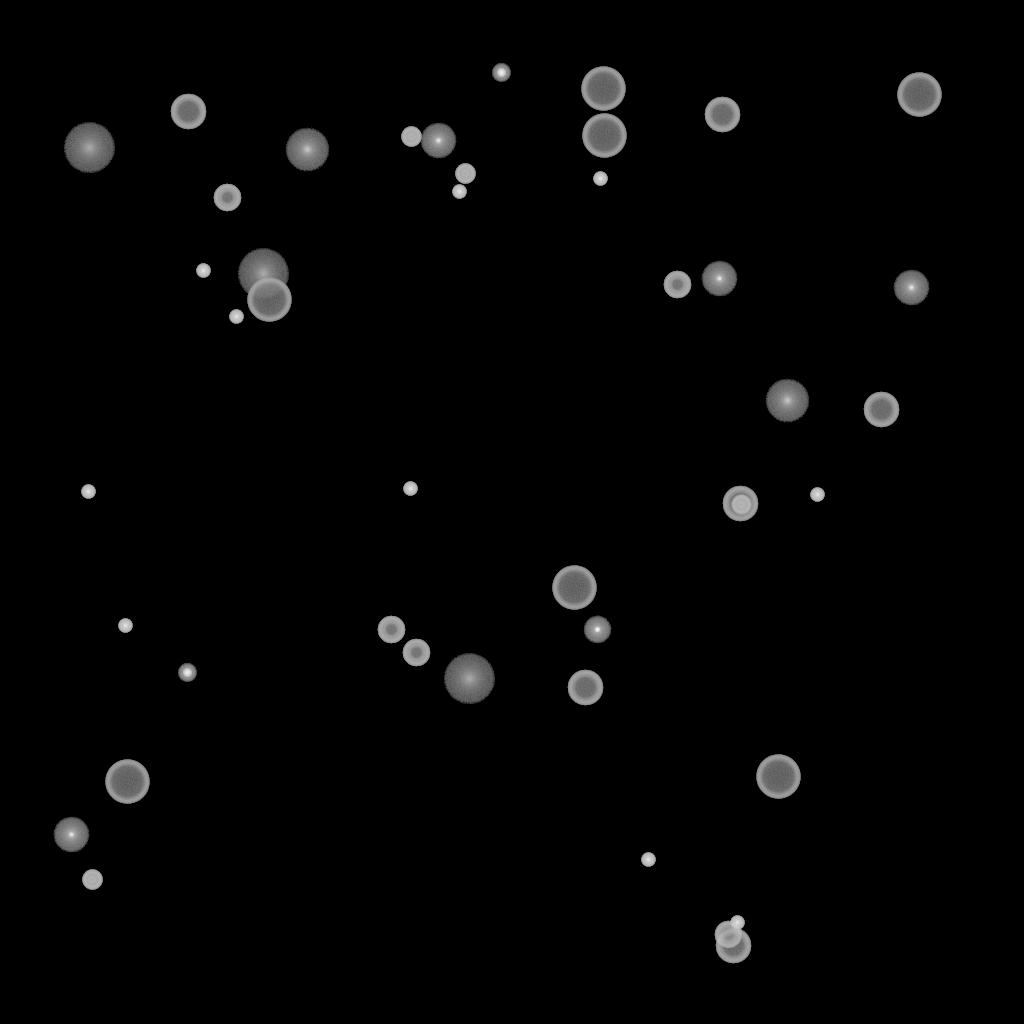depth:-10: (583, 616, 611, 644)
depth:-20: (178, 664, 196, 682), (492, 64, 510, 82)
depth:-30: (641, 853, 655, 867), (118, 619, 132, 633), (403, 482, 417, 496), (196, 264, 210, 278), (229, 310, 243, 324), (452, 185, 466, 199), (810, 488, 824, 502), (730, 916, 744, 930), (81, 485, 95, 499), (593, 172, 607, 186)
depth:-40: (455, 164, 475, 184), (731, 495, 751, 515), (82, 870, 102, 890), (401, 127, 421, 147)
depth:-50: (213, 184, 241, 212), (377, 616, 405, 644), (402, 639, 430, 667), (714, 921, 742, 949), (663, 271, 691, 299)
depth:-60: (567, 670, 603, 706), (704, 97, 740, 133), (715, 928, 751, 964), (170, 94, 206, 130), (722, 486, 758, 522), (863, 392, 899, 428)
depth:-70: (105, 760, 149, 804), (247, 278, 291, 322), (552, 566, 596, 610), (581, 67, 625, 111), (756, 755, 800, 799), (582, 114, 626, 158), (897, 73, 941, 117)
depth:0: (420, 123, 456, 159), (701, 261, 737, 297), (893, 270, 929, 306), (53, 817, 89, 853)
depth:10: (285, 128, 329, 172), (765, 379, 809, 423)
depth:20: (237, 249, 289, 299), (63, 123, 115, 173), (443, 654, 495, 704)
